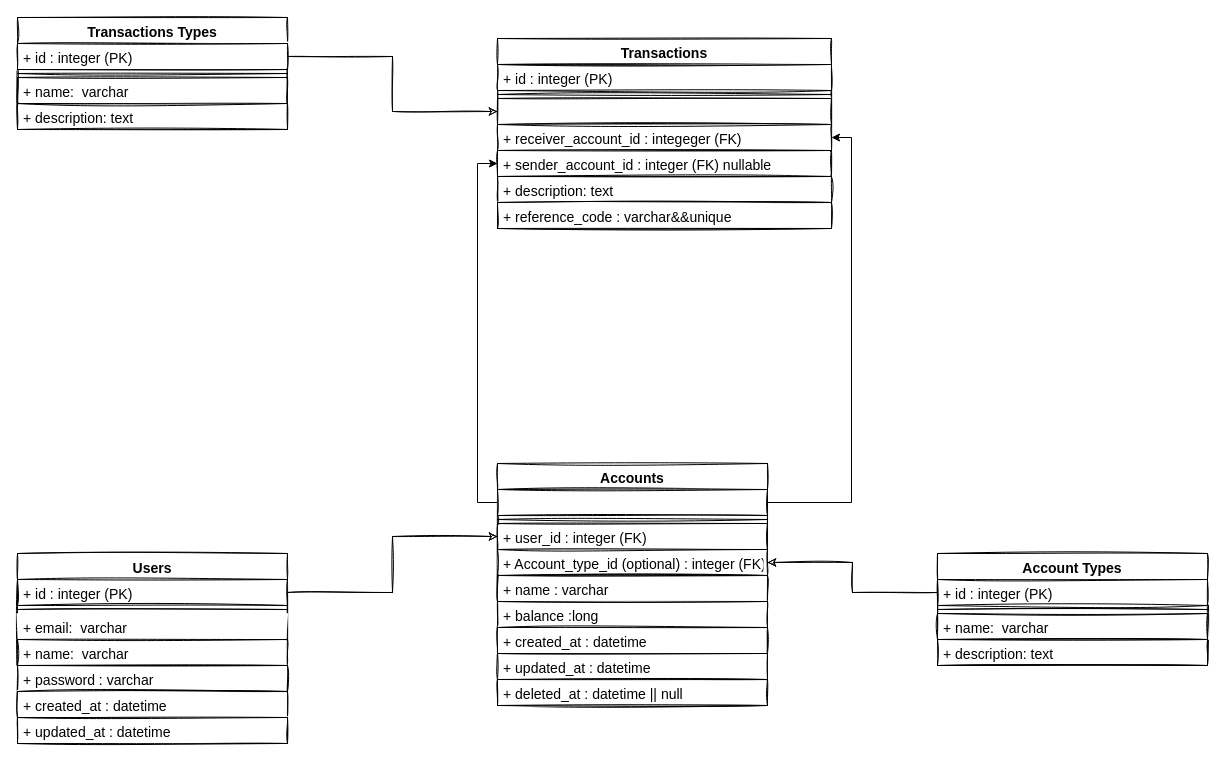
Image size: 1225x761. Some labels were removed from this diagram. Here are the shapes that lost their labels. From the top down, the centre of each, then its label:
the point at 664,111: + transaction_type_id : integer (FK)
the point at 632,502: + id : integer(PK)
